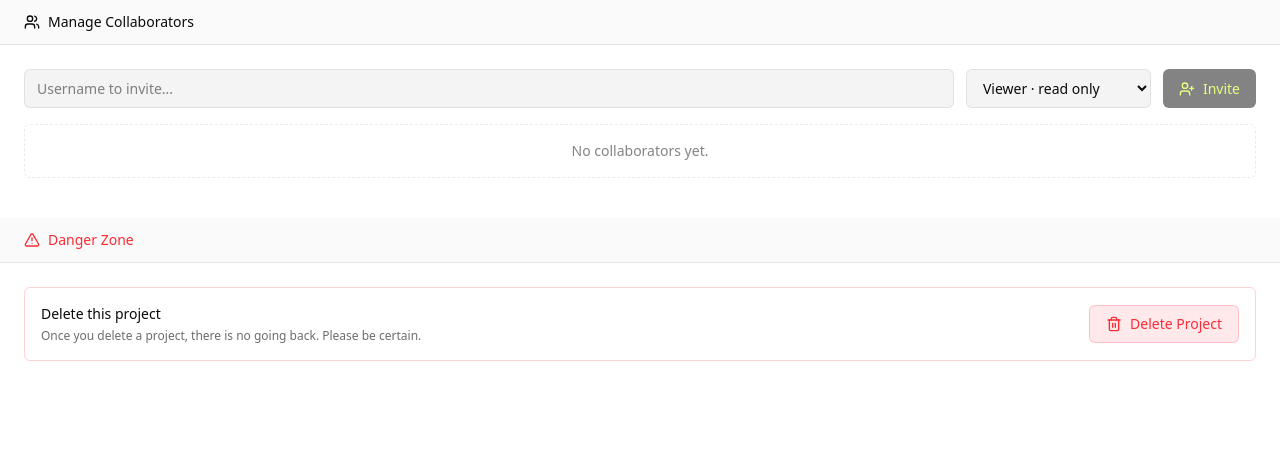
Test: ProjectSettings collaboration and deletion › lets the owner choose Editor access and shows the resulting role
Type "producer" into the field with placeholder "Username to invite..." at (489, 88), box [24,69,954,108]
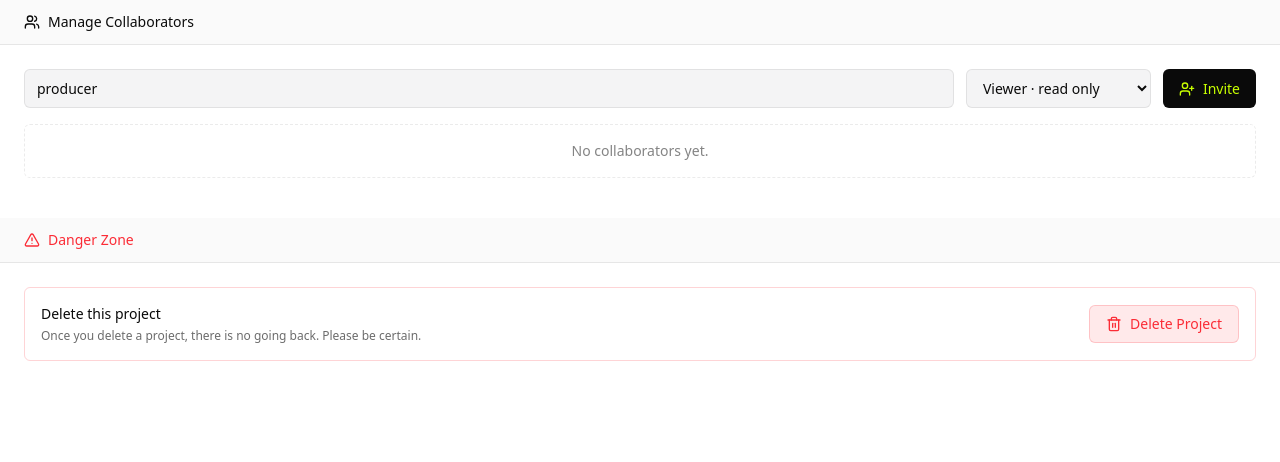
Select "Editor · save versions" in the dropdown named "Collaborator access" at (1058, 88), box [966,69,1151,108]
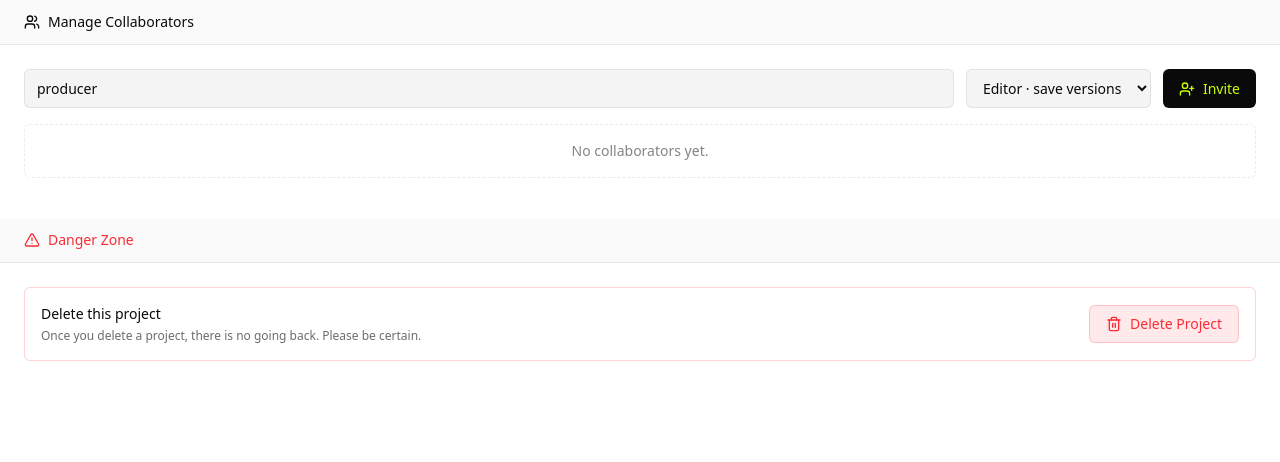
Click the button "Invite" at (1209, 88), box [1163,69,1256,108]
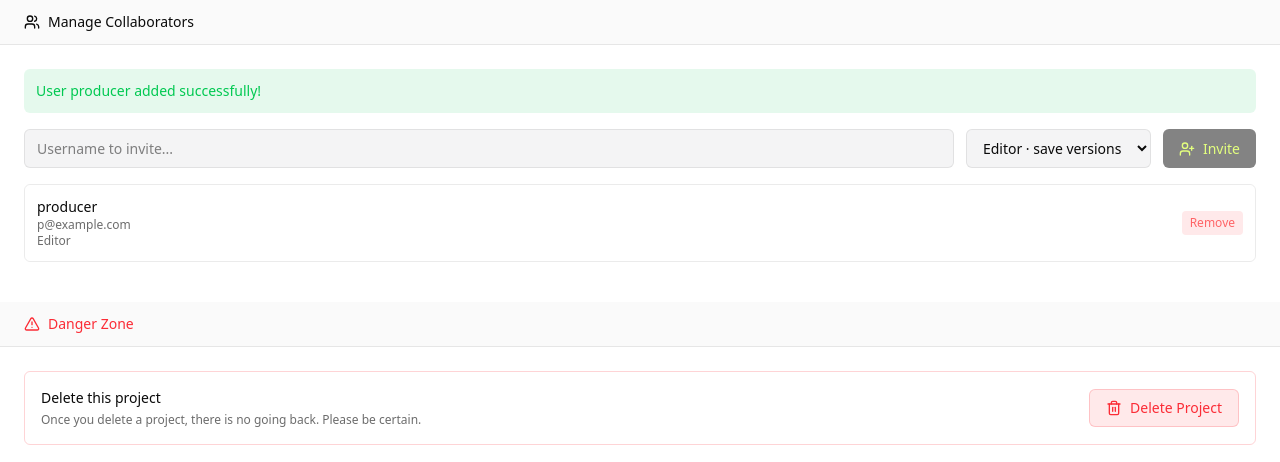
Result: the text "producer" is shown at [37,197,97,216]
Result: the text "Editor" is shown at [37,232,71,249]
